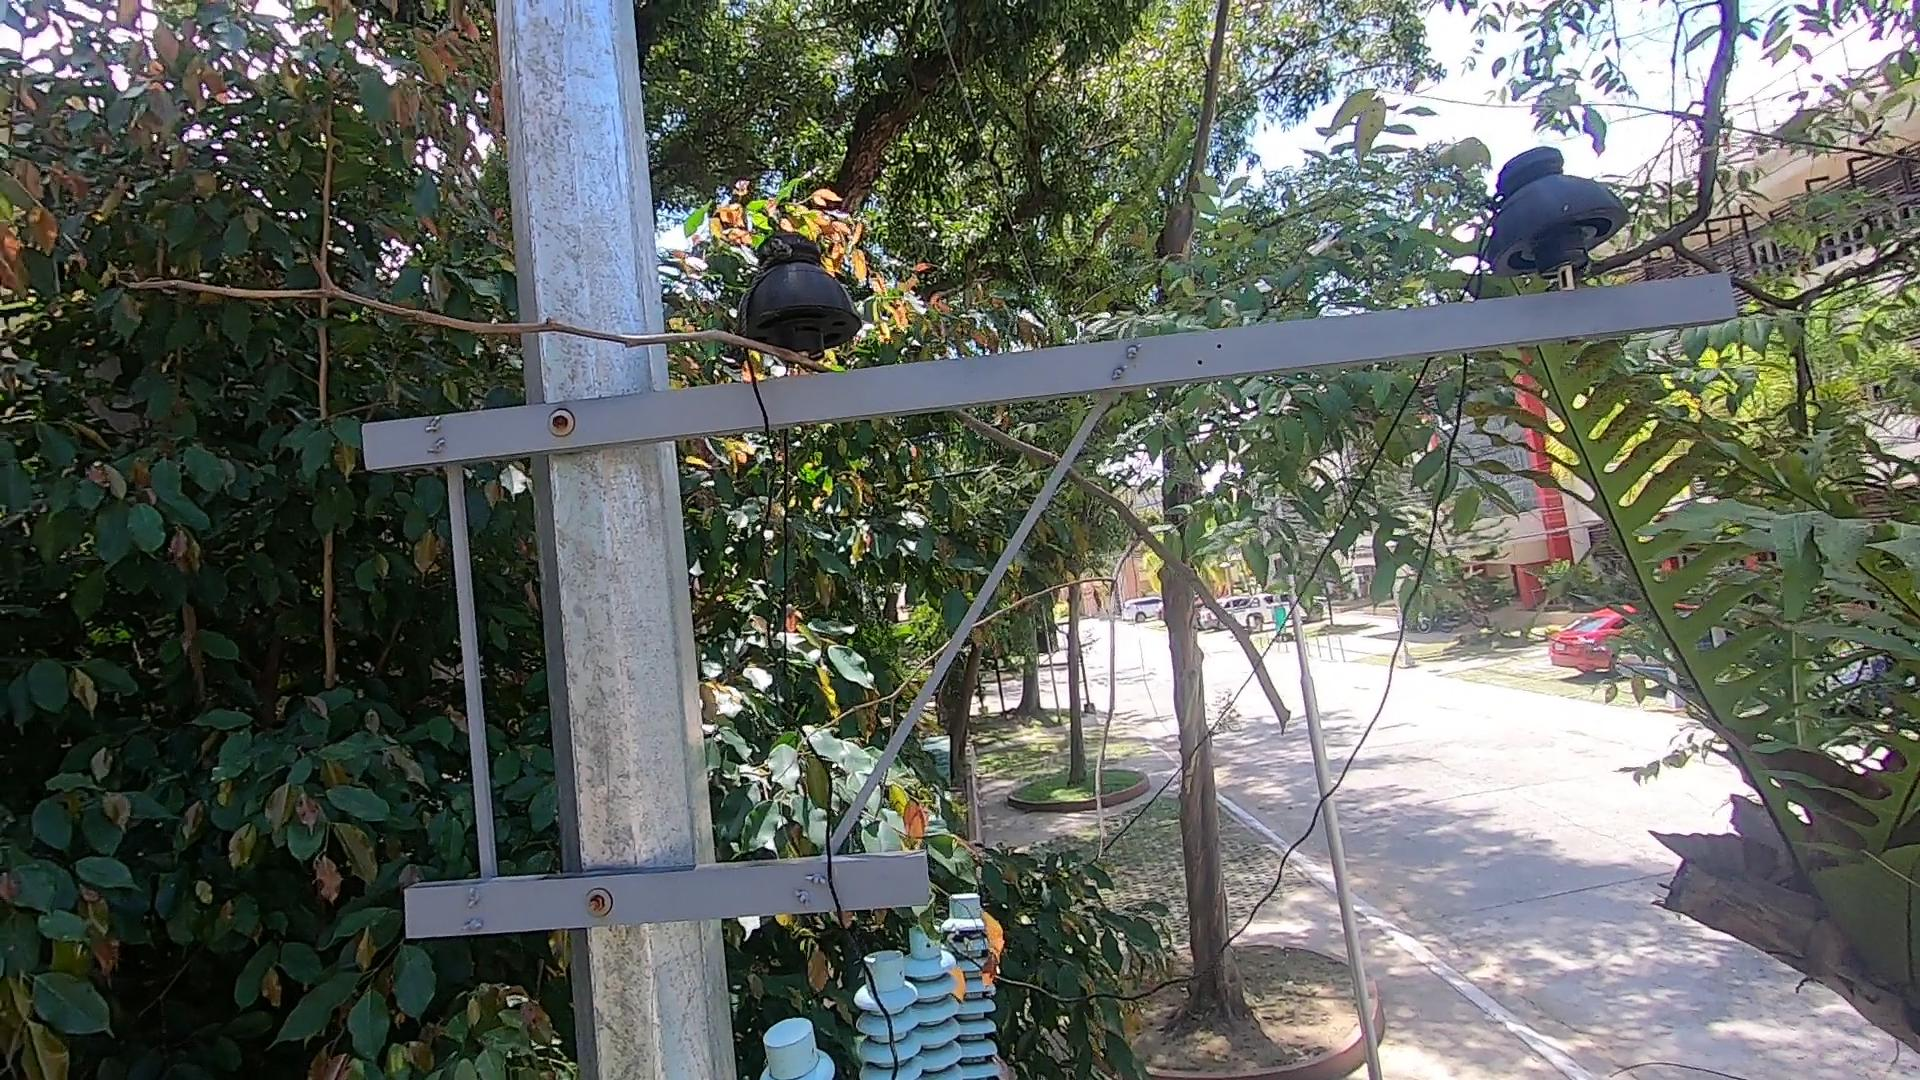leaf: (928, 882, 1007, 1005)
tree branch: (95, 224, 1324, 752)
